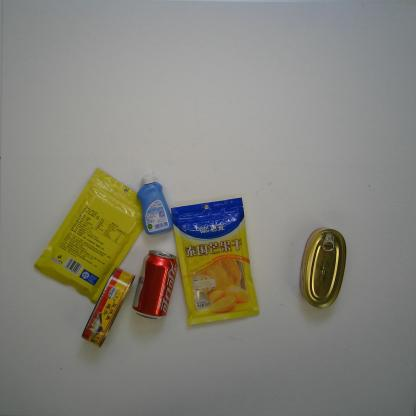Canned Food: (80, 266, 136, 350), (297, 226, 349, 310)
Dried Fruit: (32, 166, 154, 306), (168, 196, 260, 326)
Drink: (131, 247, 178, 322)
Personal Hygiene: (135, 170, 173, 235)
